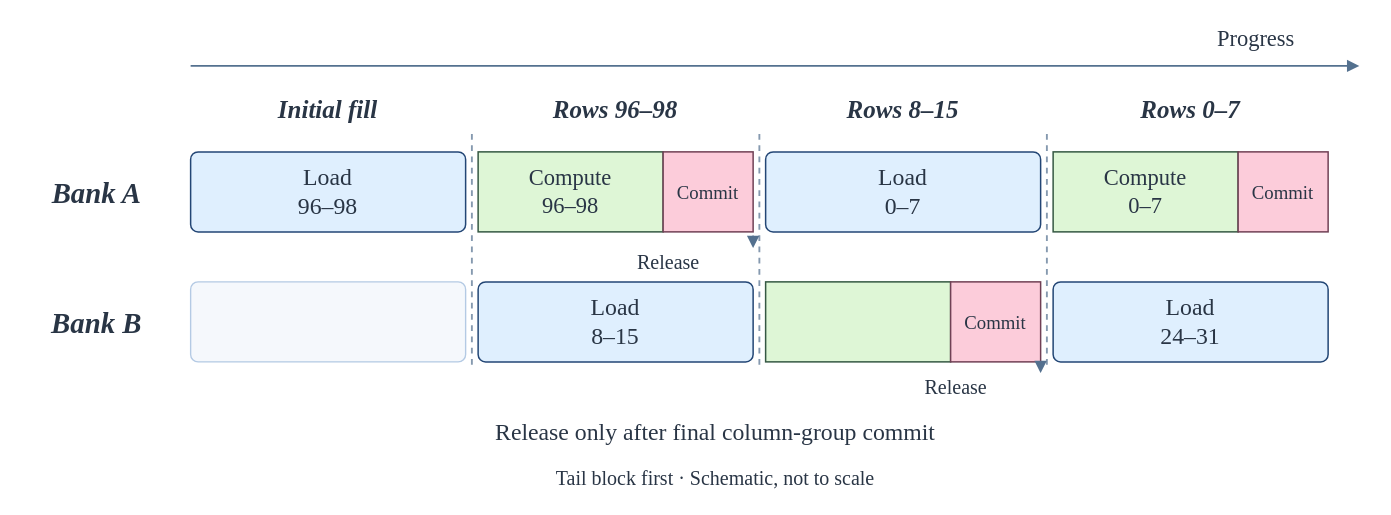
The diagram is 1391 pixels wide and 515 high, and some of its shapes have lost their labels. Here are the shapes that lost their labels. From the top down, the centre of each, then its label:
[327,321]: Free
[857,321]: Compute 8–15
